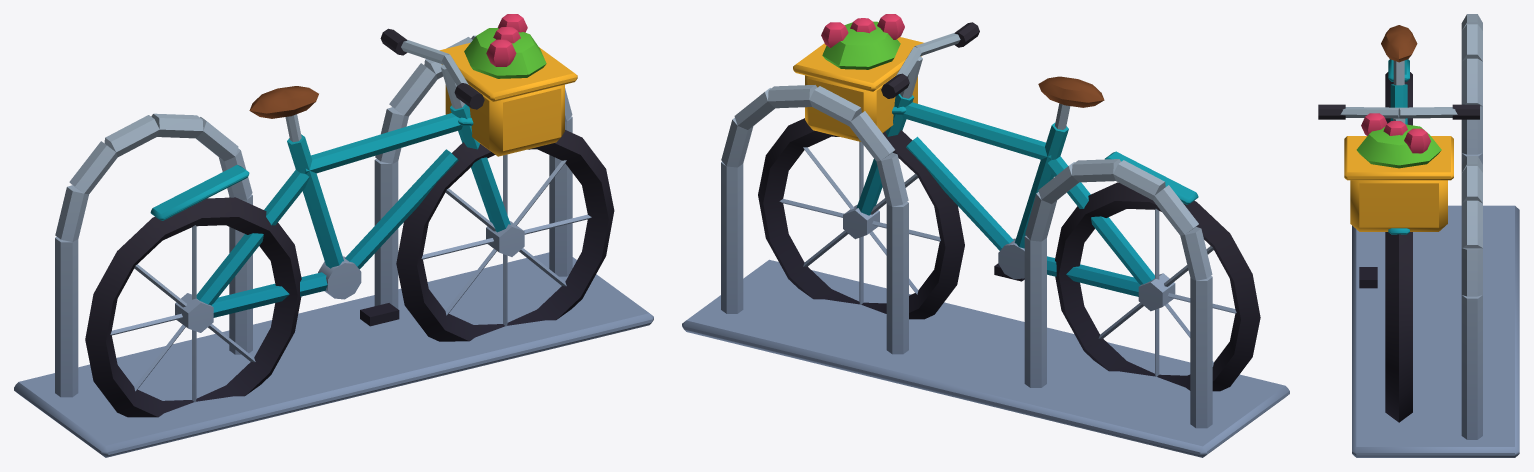
Rendered from bike_rack.glb.
The picture shows the model from 3 angles, left to right: view 1: azimuth 30°, elevation 25°; view 2: azimuth 150°, elevation 25°; view 3: azimuth 270°, elevation 25°; orthographic projection. The views are drawn at different scales.
Visible parts, largest first — view 1: bike_rack; view 2: bike_rack; view 3: bike_rack.
Boxes of the visible parts, <box> form: bike_rack: <box>14,14,653,457</box>; bike_rack: <box>682,14,1289,457</box>; bike_rack: <box>1318,14,1519,457</box>.
Bounding box in the file's own units: 1.9 × 1.07 × 0.66.
